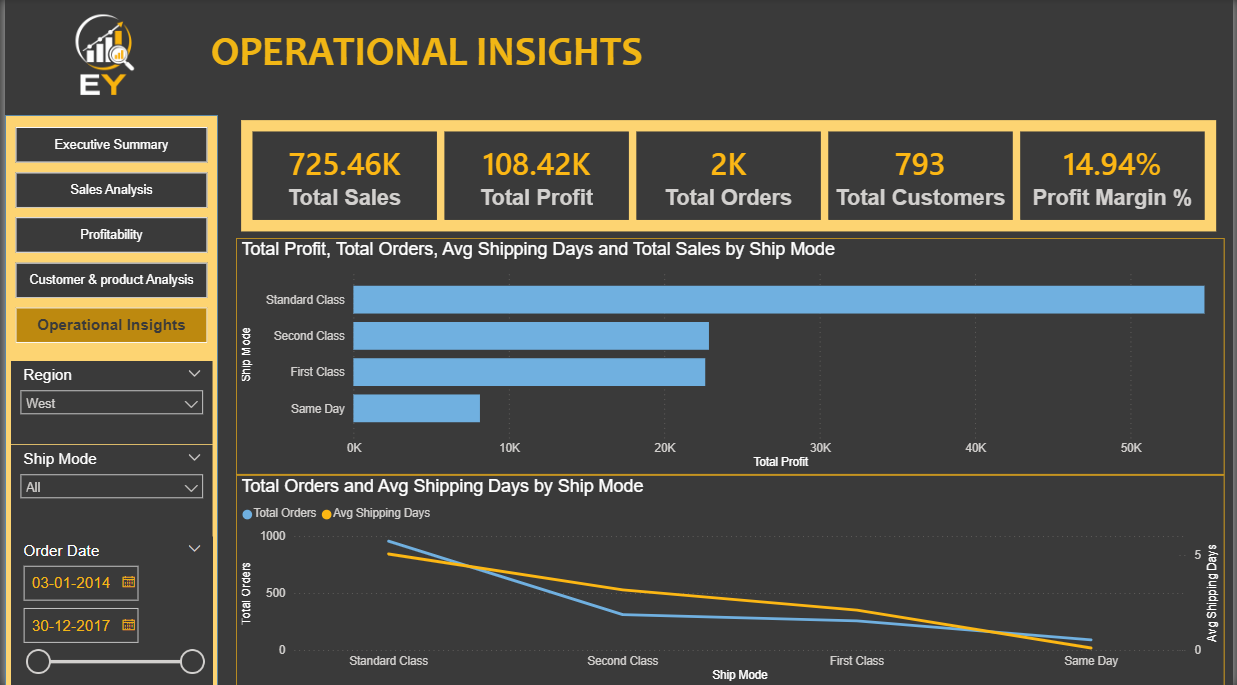

The page's visual inventory and layout, read from the dashboard file:
{"tool":"powerbi","page":{"name":"Operational Insights","canvas":[1280,720],"ordinal":4},"visuals":[{"type":"textbox","box":[209.4,23.4,1059.7,75],"z":0},{"type":"shape","box":[0,121.9,221.9,598.6],"z":1000},{"type":"cardVisual","fields":{"Data":["Data.Total Sales","Data.Total Profit","Data.Total Orders","Customer.Total Customers","Data.Profit Margin %"]},"box":[240,121.7,1030,126.7],"z":2000},{"type":"image","box":[0,0,200.1,121.9],"z":3000},{"type":"lineChart","fields":{"Category":["ShipMode.Ship Mode"],"Y":["Data.Total Orders"],"Y2":["Data.Avg Shipping Days"]},"box":[240,496.7,1030,221.7],"z":4000},{"type":"clusteredBarChart","fields":{"Y":["Data.Total Profit"],"Category":["ShipMode.Ship Mode"]},"box":[240,250,1030,246.7],"z":5000},{"type":"pageNavigator","box":[11.7,135,200,225],"z":6000},{"type":"slicer","fields":{"Values":["Location.Region"]},"box":[6.7,378.3,210,86.7],"z":7000},{"type":"slicer","fields":{"Values":["ShipMode.Ship Mode"]},"box":[6.7,465,210,96.7],"z":8000},{"type":"slicer","fields":{"Values":["Data.Order Date"]},"box":[6.7,561.7,210,156.7],"z":9000}]}

Visuals, with their boxes in screenshot pixels (x1, y1, x2, y2), scaled from the page's 1280x720 canvas onto the 1237x685 screenshot:
textbox: <box>202,22,1226,94</box>
shape: <box>0,116,214,684</box>
cardVisual - Data.Total Sales x Data.Total Profit: <box>232,116,1227,236</box>
image: <box>0,0,193,116</box>
lineChart - ShipMode.Ship Mode x Data.Total Orders: <box>232,473,1227,683</box>
clusteredBarChart - Data.Total Profit x ShipMode.Ship Mode: <box>232,238,1227,473</box>
pageNavigator: <box>11,128,205,342</box>
slicer - Location.Region: <box>6,360,209,442</box>
slicer - ShipMode.Ship Mode: <box>6,442,209,534</box>
slicer - Data.Order Date: <box>6,534,209,683</box>
